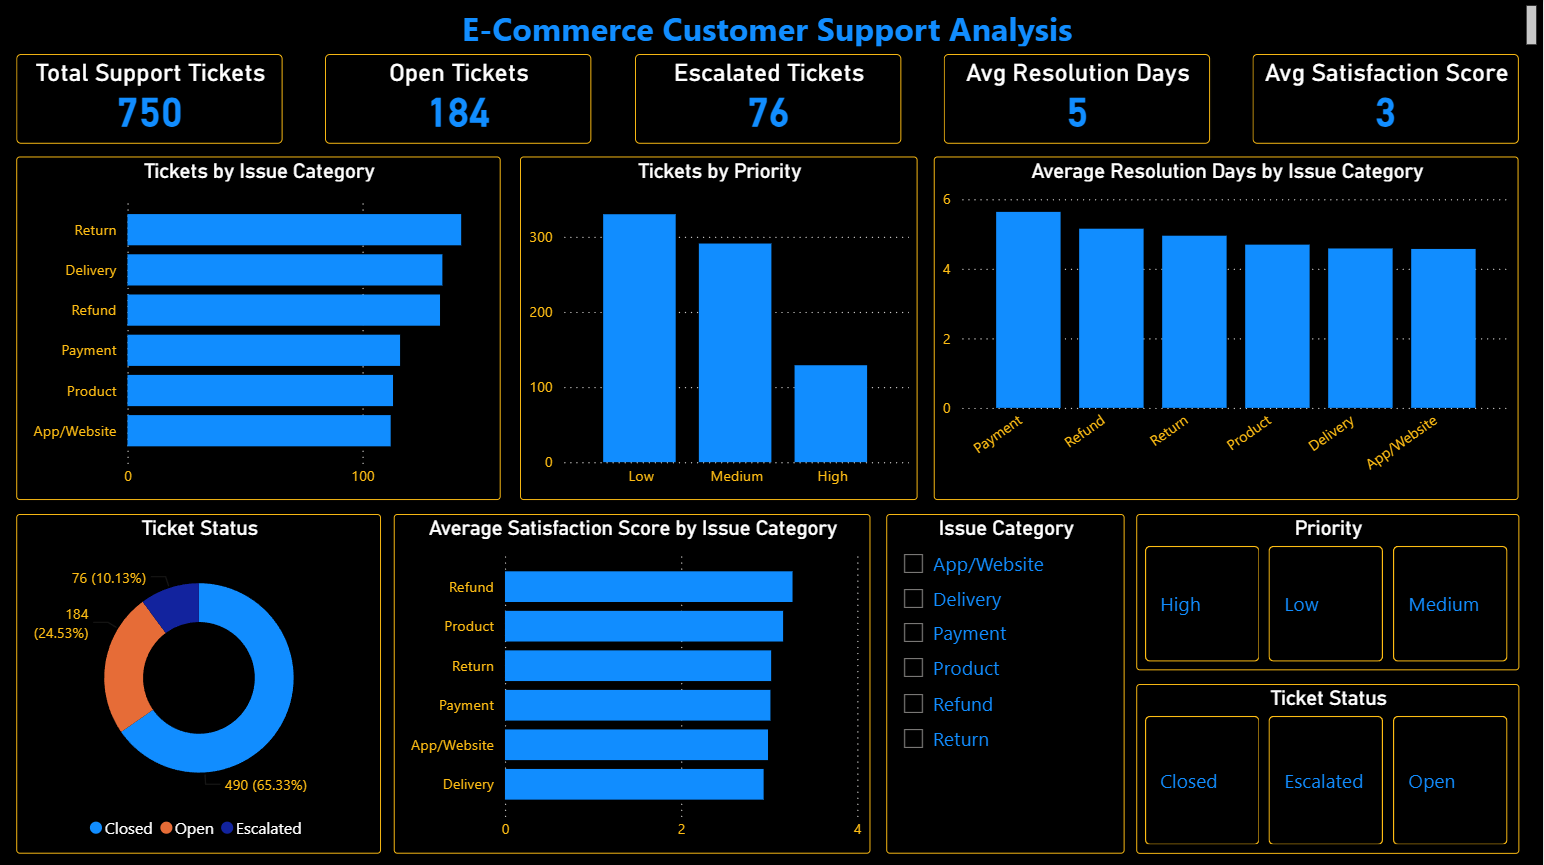

The page's visual inventory and layout, read from the dashboard file:
{"tool":"powerbi","page":{"name":"Customer Support Analysis","canvas":[1280,720],"ordinal":2},"visuals":[{"type":"advanceCardE03760C5AB684758B56AA29F9E6C257B","title":"Total Support Tickets","fields":{"mainMeasure":["support_tickets_cleaned.Total Support Tickets"]},"box":[13.6,45.7,221,74.1],"z":0},{"type":"textbox","box":[0,0,1280,45.3],"z":1000},{"type":"advanceCardE03760C5AB684758B56AA29F9E6C257B","title":"Open Tickets","fields":{"mainMeasure":["support_tickets_cleaned.Open Tickets"]},"box":[269.8,45.7,221,74.1],"z":2000},{"type":"advanceCardE03760C5AB684758B56AA29F9E6C257B","title":"Escalated Tickets","fields":{"mainMeasure":["support_tickets_cleaned.Escalated Tickets"]},"box":[525.9,45.7,221,74.1],"z":3000},{"type":"advanceCardE03760C5AB684758B56AA29F9E6C257B","title":"Avg Resolution Days","fields":{"mainMeasure":["support_tickets_cleaned.Average Resolution Days"]},"box":[782.1,45.7,221,74.1],"z":4000},{"type":"advanceCardE03760C5AB684758B56AA29F9E6C257B","title":"Avg Satisfaction Score","fields":{"mainMeasure":["support_tickets_cleaned.Average Satisfaction Score"]},"box":[1038.3,45.7,221,74.1],"z":5000},{"type":"clusteredBarChart","title":"Tickets by Issue Category","fields":{"Category":["support_tickets_cleaned.issue_category"],"Y":["support_tickets_cleaned.Total Support Tickets"]},"box":[13.6,130.9,401.2,285.2],"z":6000},{"type":"clusteredColumnChart","title":"Tickets by Priority","fields":{"Category":["support_tickets_cleaned.priority"],"Y":["support_tickets_cleaned.Total Support Tickets"]},"box":[430.9,130.9,329.6,285.2],"z":7000},{"type":"donutChart","title":"Ticket Status","fields":{"Category":["support_tickets_cleaned.ticket_status"],"Y":["support_tickets_cleaned.Total Support Tickets"]},"box":[13.6,427.2,302.5,281.5],"z":8000},{"type":"columnChart","title":"Average Resolution Days by Issue Category","fields":{"Category":["support_tickets_cleaned.issue_category"],"Y":["support_tickets_cleaned.Average Resolution Days"]},"box":[774.1,130.9,485.2,285.2],"z":9000},{"type":"clusteredBarChart","title":"Average Satisfaction Score by Issue Category","fields":{"Category":["support_tickets_cleaned.issue_category"],"Y":["support_tickets_cleaned.Average Satisfaction Score"]},"box":[325.9,427.2,395.1,281.5],"z":10000},{"type":"slicer","title":"Issue Category","fields":{"Values":["support_tickets_cleaned.issue_category"]},"box":[734.6,427.2,197.5,281.5],"z":11000},{"type":"advancedSlicerVisual","title":"Priority","fields":{"Values":["support_tickets_cleaned.priority"]},"box":[942,427.2,317.3,129.6],"z":12000},{"type":"advancedSlicerVisual","title":"Ticket Status","fields":{"Values":["support_tickets_cleaned.ticket_status"]},"box":[942,567.9,317.3,140.7],"z":13000}]}

Visuals, with their boxes in screenshot pixels (x1, y1, x2, y2), scaled from the page's 1280x720 canvas onto the 1544x865 screenshot:
"Total Support Tickets" advanceCardE03760C5AB684758B56AA29F9E6C257B: [left=16, top=55, right=283, bottom=144]
textbox: [left=0, top=0, right=1543, bottom=54]
"Open Tickets" advanceCardE03760C5AB684758B56AA29F9E6C257B: [left=325, top=55, right=592, bottom=144]
"Escalated Tickets" advanceCardE03760C5AB684758B56AA29F9E6C257B: [left=634, top=55, right=901, bottom=144]
"Avg Resolution Days" advanceCardE03760C5AB684758B56AA29F9E6C257B: [left=943, top=55, right=1210, bottom=144]
"Avg Satisfaction Score" advanceCardE03760C5AB684758B56AA29F9E6C257B: [left=1252, top=55, right=1519, bottom=144]
"Tickets by Issue Category" clusteredBarChart: [left=16, top=157, right=500, bottom=500]
"Tickets by Priority" clusteredColumnChart: [left=520, top=157, right=917, bottom=500]
"Ticket Status" donutChart: [left=16, top=513, right=381, bottom=851]
"Average Resolution Days by Issue Category" columnChart: [left=934, top=157, right=1519, bottom=500]
"Average Satisfaction Score by Issue Category" clusteredBarChart: [left=393, top=513, right=870, bottom=851]
"Issue Category" slicer: [left=886, top=513, right=1124, bottom=851]
"Priority" advancedSlicerVisual: [left=1136, top=513, right=1519, bottom=669]
"Ticket Status" advancedSlicerVisual: [left=1136, top=682, right=1519, bottom=851]
